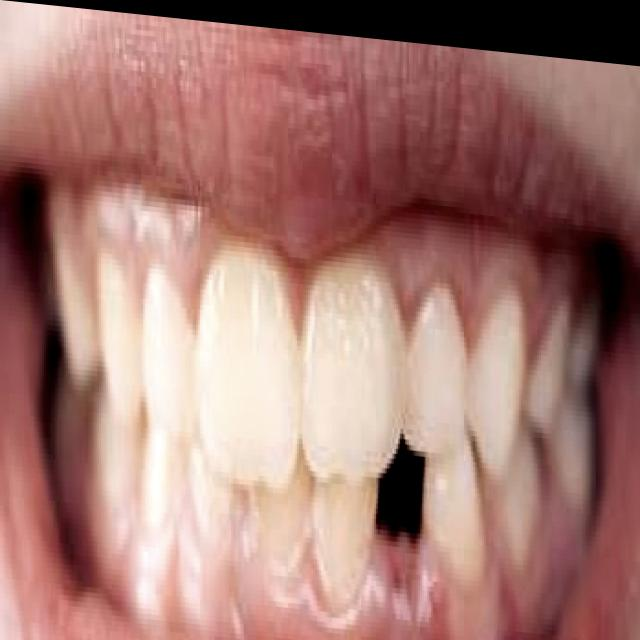hypodontia: (378, 439, 425, 533)
